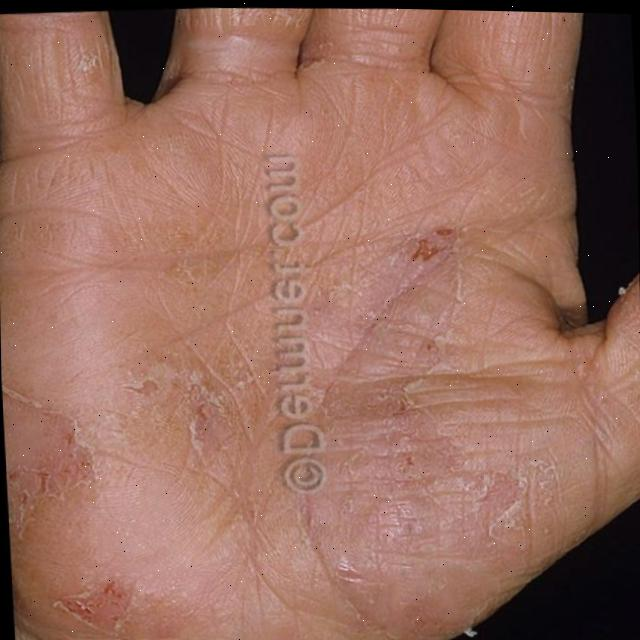Eczema: (0, 175, 538, 640)
